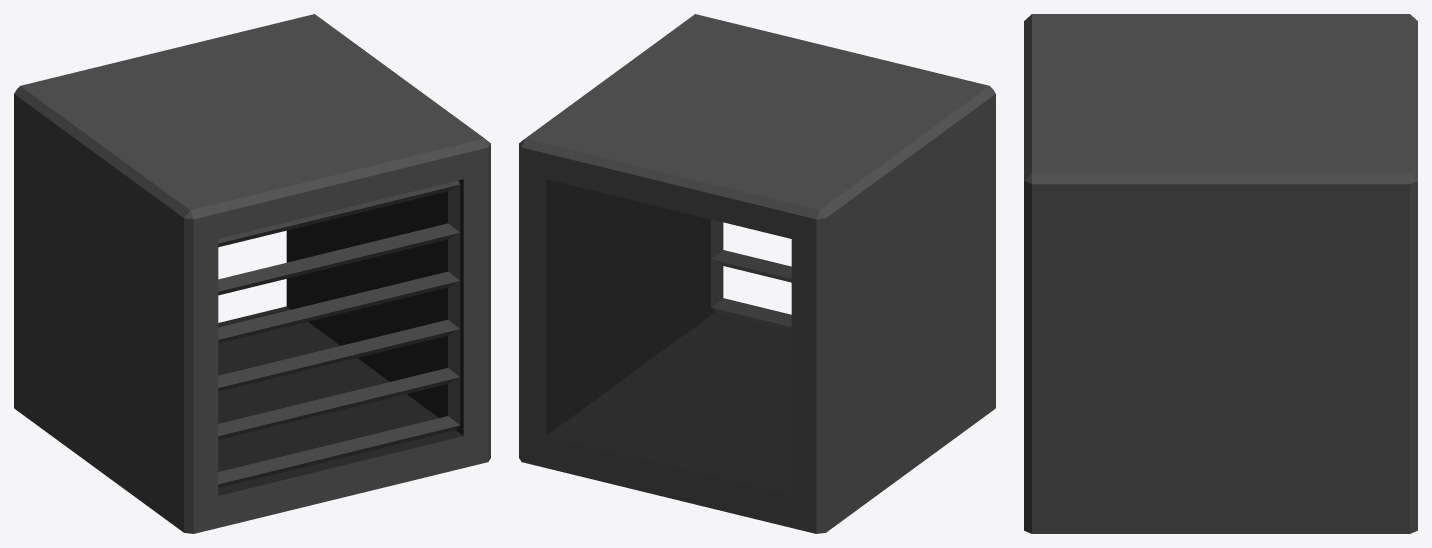
Rendered from HJD_SFB_Platform_07.fbx.
3 renders of one model, left to right at view 1: azimuth 30°, elevation 25°; view 2: azimuth 150°, elevation 25°; view 3: azimuth 270°, elevation 25°, orthographic. The views are drawn at different scales.
Visible parts, largest first — view 1: Base, Inlet; view 2: Base, Inlet; view 3: Base.
Part boxes in pixels (x1,y1,x2,y2): Base: (14,14,490,533); Inlet: (218,180,460,487); Base: (519,14,995,533); Inlet: (711,219,791,330); Base: (1024,14,1417,533).
Bounding box in the file's own units: 100 × 100 × 100.
